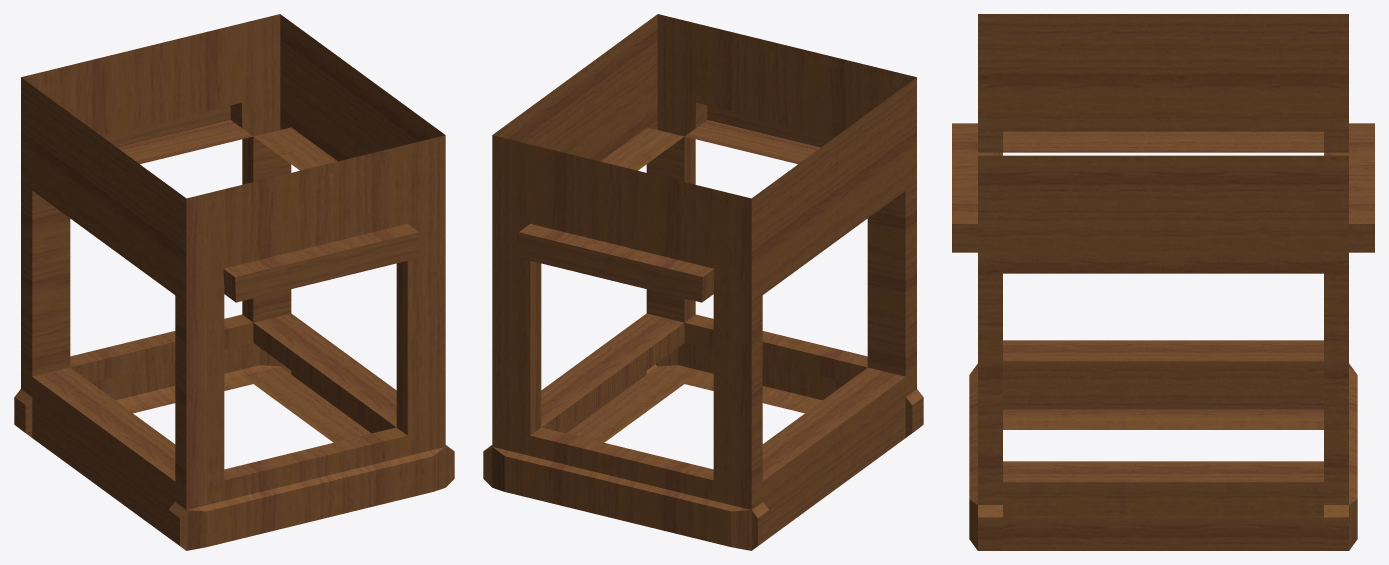
Rendered from Food stand textured.FBX.
3 renders of one model, left to right at view 1: azimuth 30°, elevation 25°; view 2: azimuth 150°, elevation 25°; view 3: azimuth 270°, elevation 25°, orthographic. The views are drawn at different scales.
Visible parts, largest first — view 1: Box002; view 2: Box002; view 3: Box002.
Boxes of the visible parts, x1=… form: Box002: x1=14, y1=14, x2=454, y2=550; Box002: x1=483, y1=14, x2=923, y2=550; Box002: x1=952, y1=14, x2=1374, y2=550.
Size of the model in its own units: 110 by 131 by 135.
Materials: 1 (1 with a texture image).
